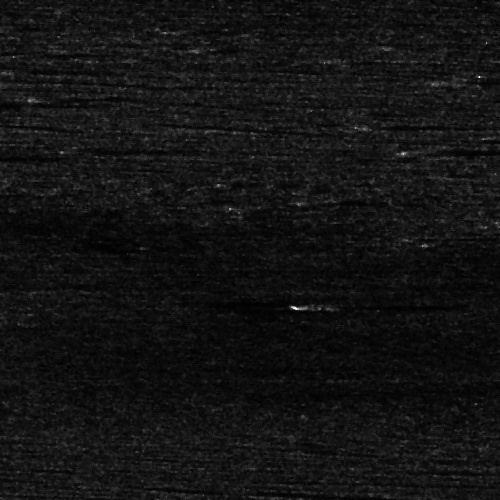object: (393, 75, 486, 86), (279, 299, 362, 308), (392, 148, 433, 153)
shadow: (320, 299, 434, 308), (0, 97, 64, 110), (439, 75, 500, 86), (413, 148, 500, 153), (0, 152, 49, 159), (391, 124, 500, 127)
